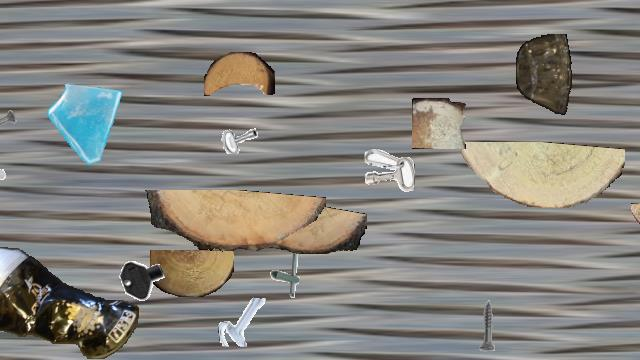glass: (45, 77, 135, 167)
metal: (460, 298, 514, 352), (208, 99, 262, 153), (262, 247, 314, 299), (117, 251, 169, 303), (364, 147, 414, 197), (218, 297, 268, 347), (0, 99, 19, 145), (0, 150, 10, 196)
plastic: (0, 247, 138, 359), (516, 34, 572, 116)
wood: (142, 190, 326, 252), (454, 142, 624, 208), (222, 202, 366, 254), (150, 250, 234, 296), (204, 52, 274, 96), (412, 98, 466, 148), (631, 199, 640, 239)
